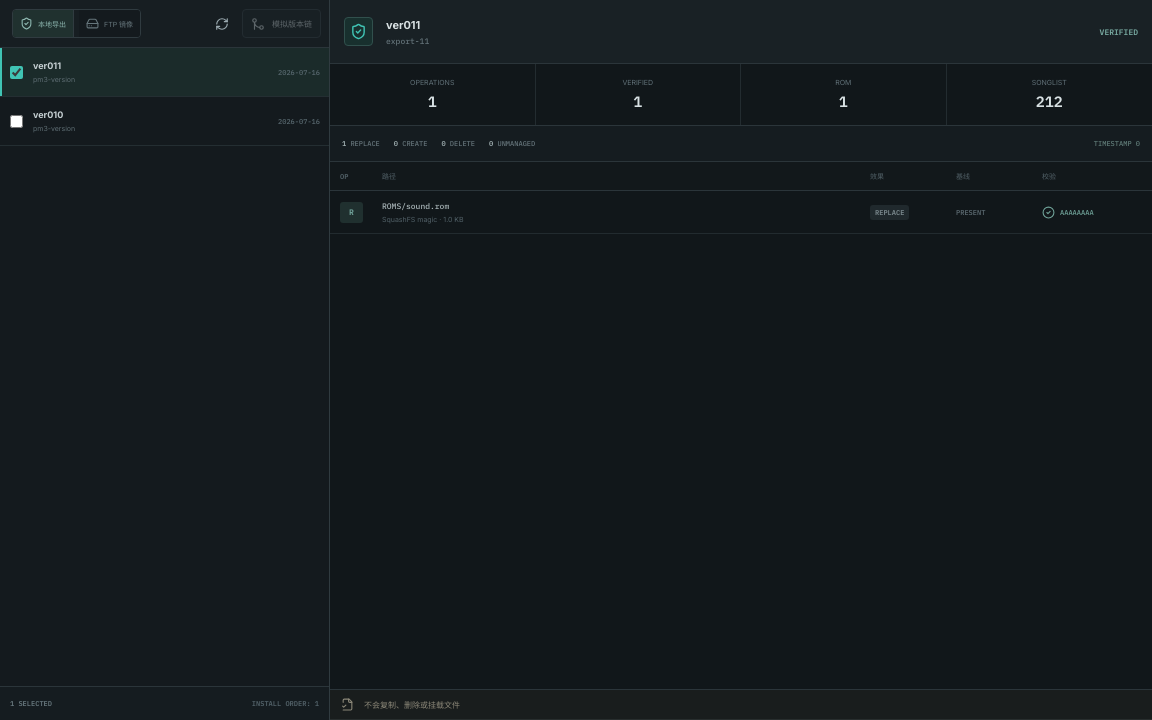
Test case: Pm3OtaAuditView › audits the latest local package and simulates selected versions in install order
Expected: the 1st text "VERIFIED" is shown, [1100, 26, 1138, 36]
Expected: the text "ROMS/sound.rom" is shown, [382, 200, 449, 210]
Click the checkbox named "版本链选择 ver010" at (16, 121), box [10, 114, 22, 128]
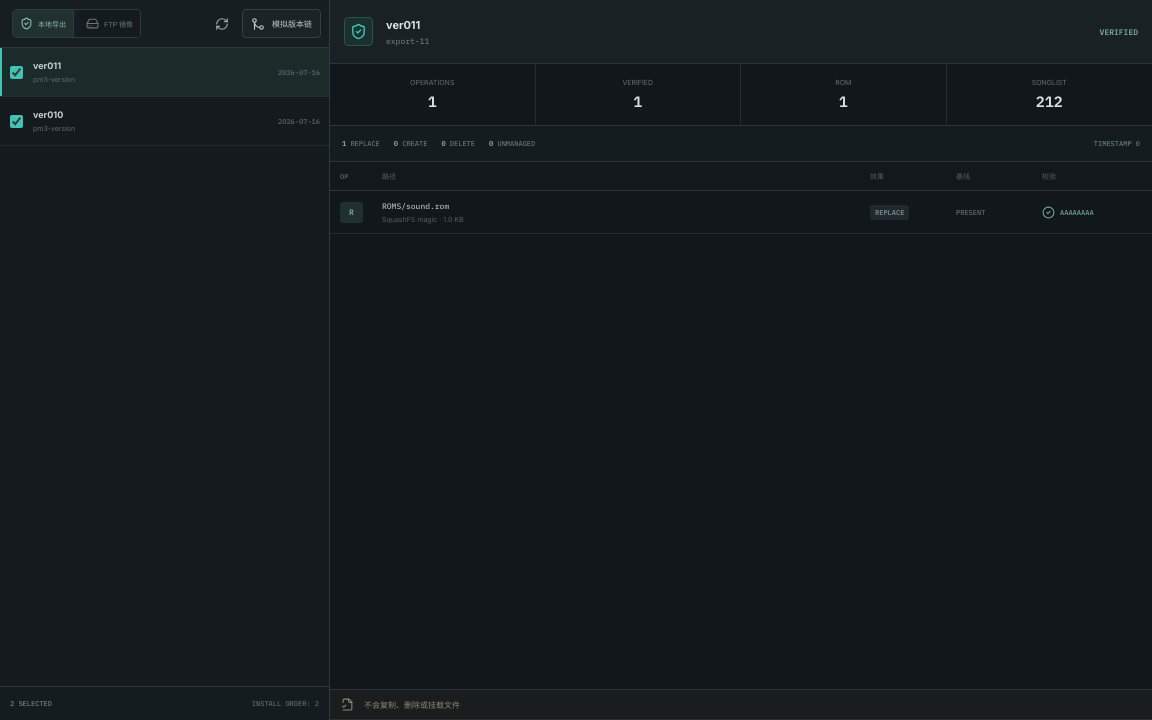
Click the button "模拟版本链" at (282, 24), box [242, 9, 321, 38]
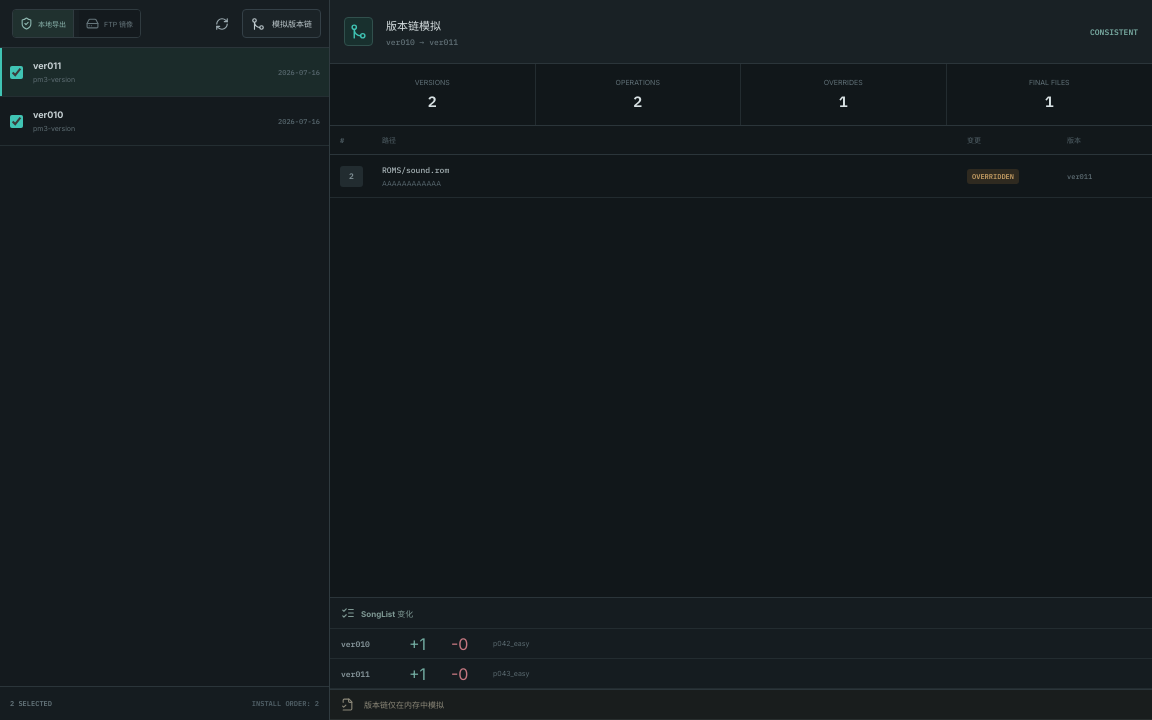
Now the text "CONSISTENT" is shown, box [1090, 26, 1138, 36]
Now the text "ver010 → ver011" is shown, box [386, 36, 458, 46]
